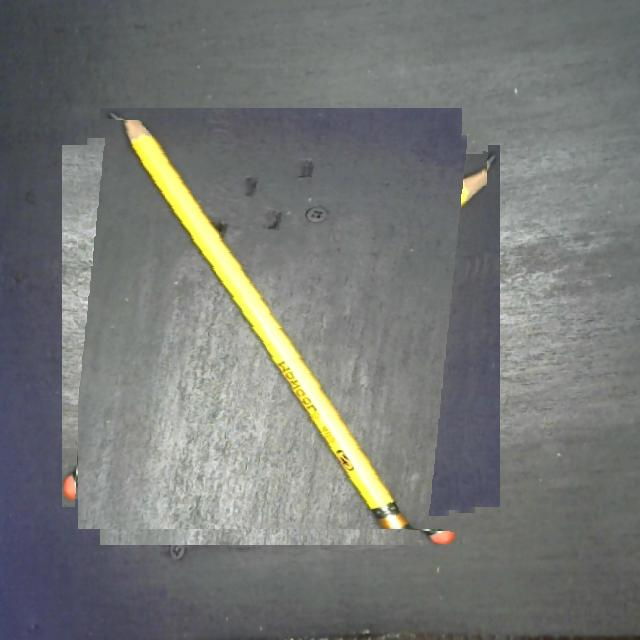biodegradable: (78, 123, 485, 529)
